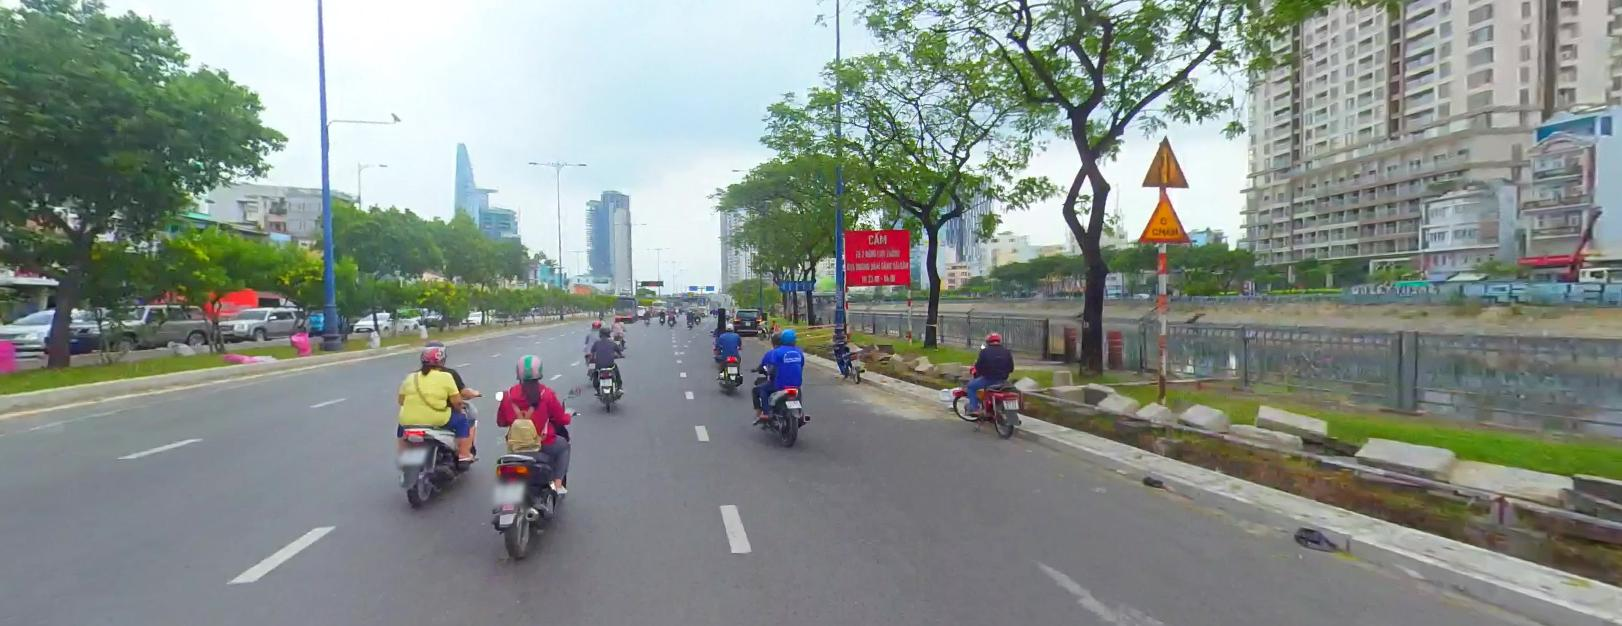Nguy hiem: (1138, 191, 1190, 241), (1140, 135, 1189, 187), (1141, 135, 1190, 187), (1139, 191, 1190, 240)
